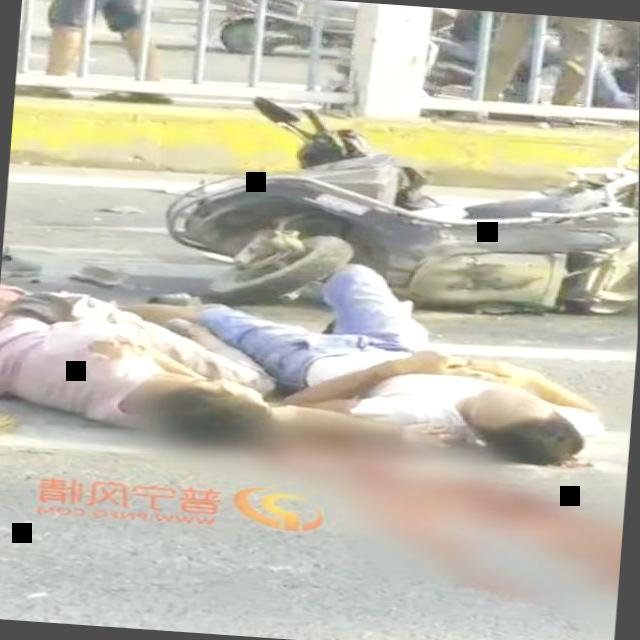Fall-Detected: (0, 250, 303, 451)
